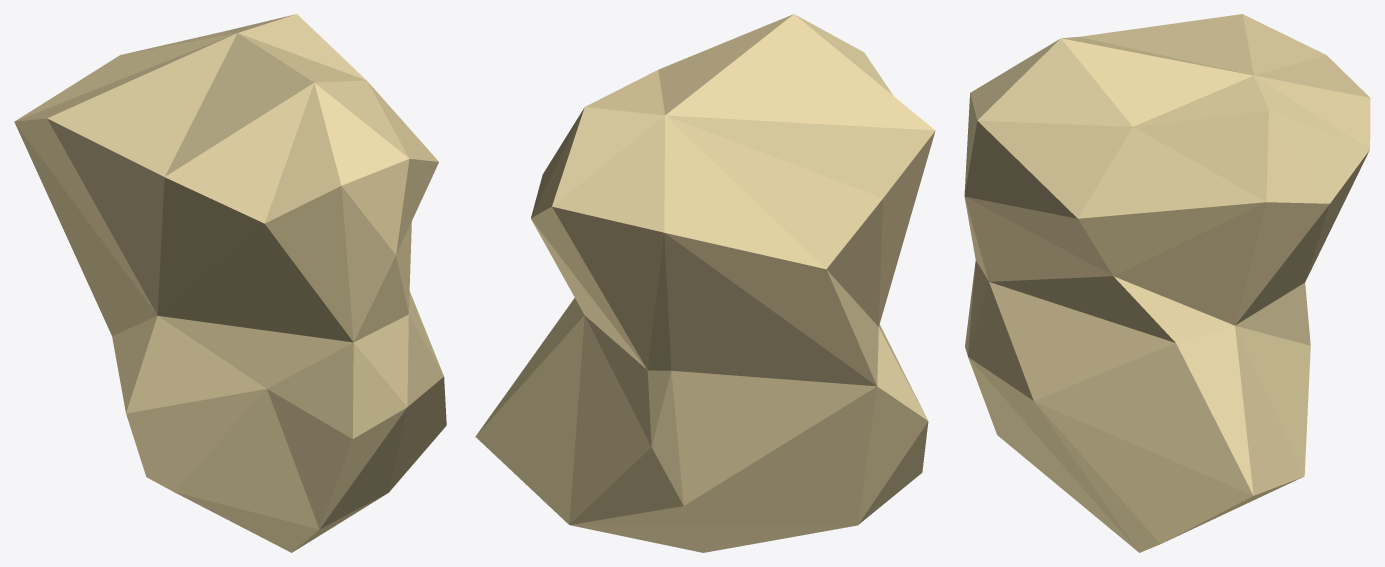
Rendered from Rock (57).fbx.
The picture shows the model from 3 angles, left to right: view 1: azimuth 30°, elevation 25°; view 2: azimuth 150°, elevation 25°; view 3: azimuth 270°, elevation 25°; orthographic projection. The views are drawn at different scales.
Visible parts, largest first — view 1: Asteroid56; view 2: Asteroid56; view 3: Asteroid56.
Part boxes in pixels (x1,y1,x2,y2): Asteroid56: [14, 14, 446, 552]; Asteroid56: [475, 14, 935, 552]; Asteroid56: [964, 14, 1370, 552].
Bounding box in the file's own units: 112 × 135 × 107.
